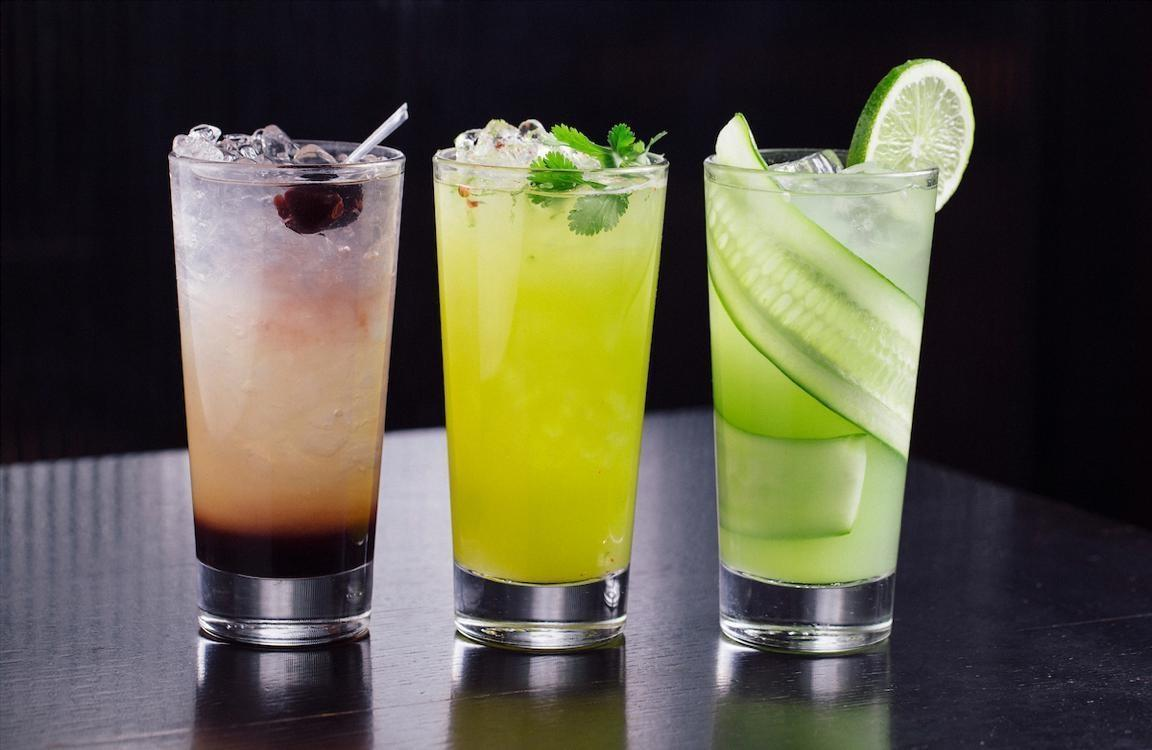glass-normal: (164, 125, 411, 646), (426, 134, 674, 647), (697, 142, 945, 654)
